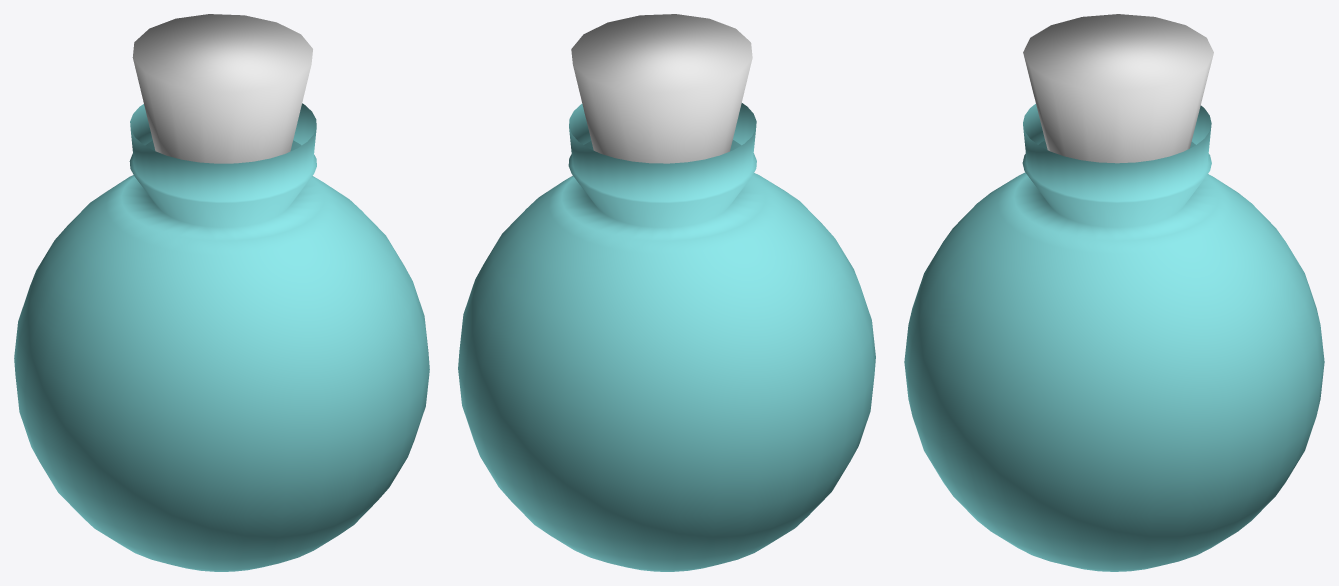
File: potiunesferaportocalie.fbx
3 views of the same model, side by side, from view 1: azimuth 30°, elevation 25°; view 2: azimuth 150°, elevation 25°; view 3: azimuth 270°, elevation 25° (orthographic).
Parts seen in each view (by area): view 1: Sphere, CylinderSphere; view 2: Sphere, CylinderSphere; view 3: Sphere, CylinderSphere.
Part boxes in pixels (<box>): Sphere: <box>14,103,429,571</box>; CylinderSphere: <box>132,14,312,163</box>; Sphere: <box>458,103,875,571</box>; CylinderSphere: <box>571,14,752,163</box>; Sphere: <box>904,103,1324,571</box>; CylinderSphere: <box>1023,14,1213,163</box>.
Bounding box in the file's own units: 455 × 599 × 455.
